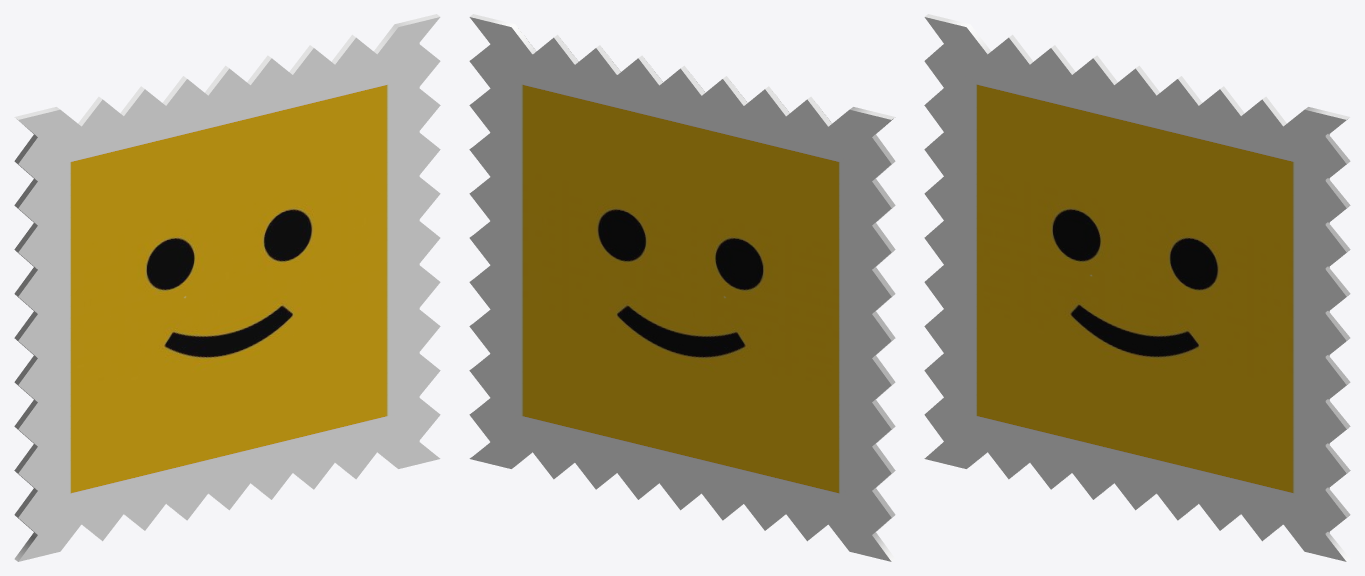
The model's file is Stamp.fbx.
3 views of the same model, side by side, from view 1: azimuth 30°, elevation 25°; view 2: azimuth 150°, elevation 25°; view 3: azimuth 330°, elevation 25° (orthographic).
Visible parts, largest first — view 1: pCube1; view 2: pCube1; view 3: pCube1.
Part boxes in pixels (x1,y1,x2,y2): pCube1: [14, 14, 440, 561]; pCube1: [469, 14, 895, 561]; pCube1: [924, 14, 1350, 561].
Size of the model in its own units: 7.6 by 7.6 by 0.1235.
